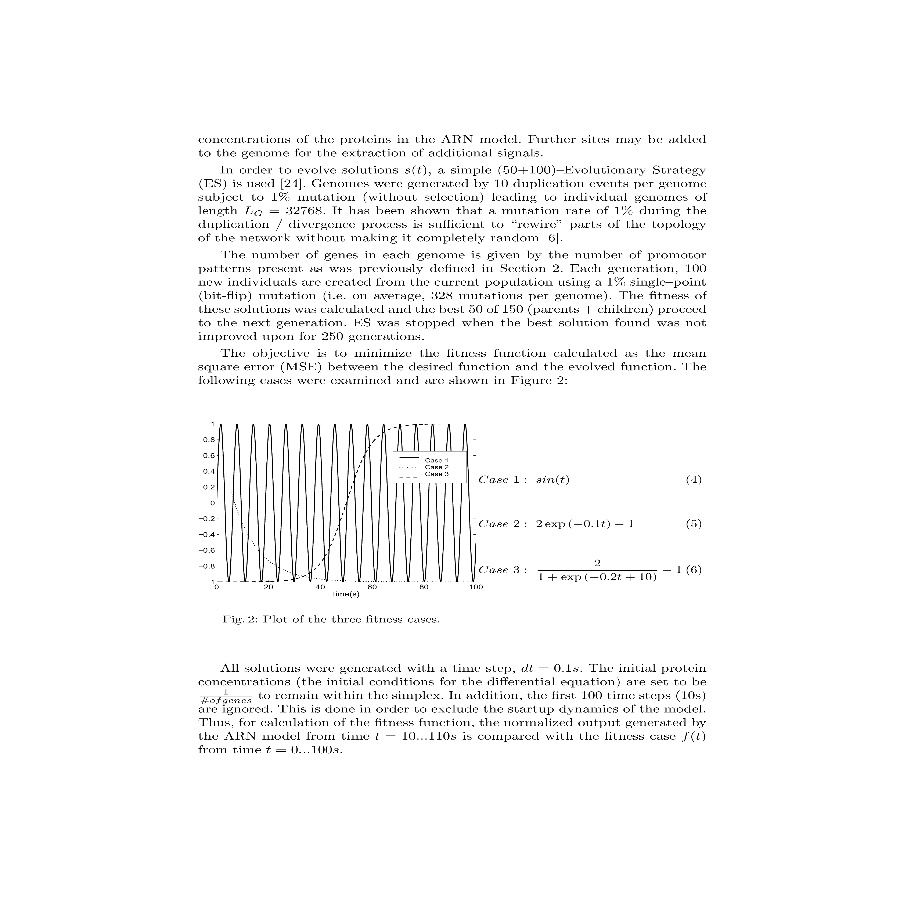eq: (536, 559, 683, 584), (537, 513, 634, 532), (535, 473, 573, 488)
